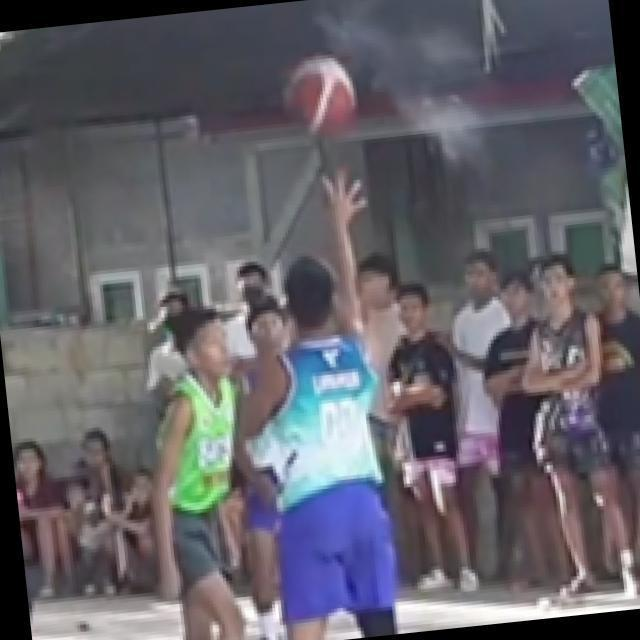ball: (277, 47, 363, 151)
